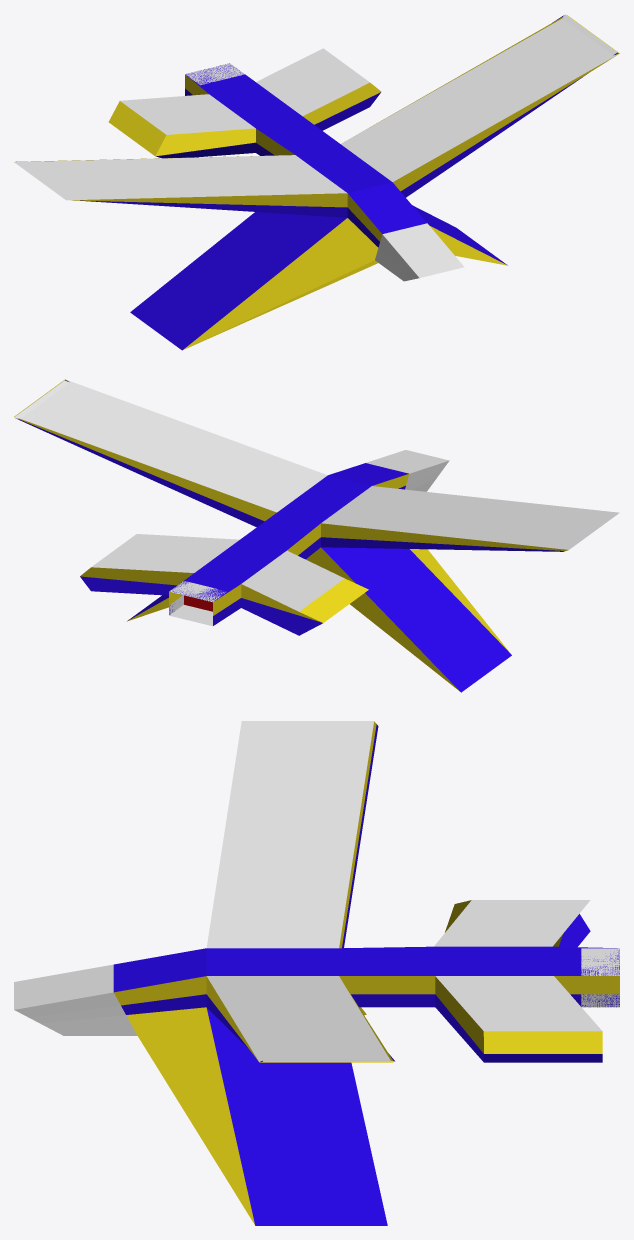
The model's file is nave.glb.
3 renders of one model, top to bottom at view 1: azimuth 30°, elevation 25°; view 2: azimuth 150°, elevation 25°; view 3: azimuth 270°, elevation 25°, orthographic. The views are drawn at different scales.
Parts seen in each view (by area): view 1: Cube.001; view 2: Cube.001; view 3: Cube.001.
Part boxes in pixels (bbox=[...]): Cube.001: bbox=[14, 14, 619, 350]; Cube.001: bbox=[14, 379, 619, 692]; Cube.001: bbox=[14, 721, 619, 1225].
Bounding box in the file's own units: 24.93 × 7.81 × 18.36.
